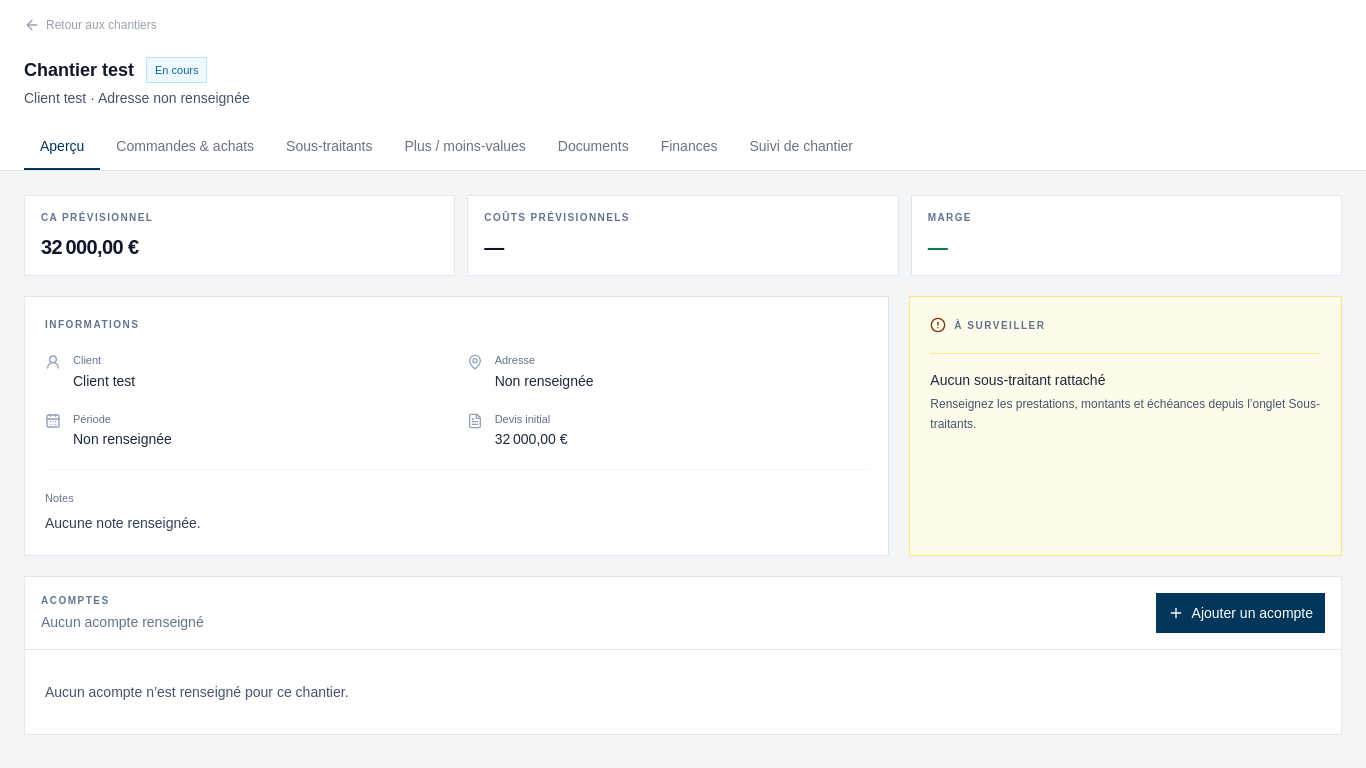
Scenario: chantier adjustment sheet › supports keyboard activation with Enter and keeps missing dates empty
Click the button "Plus / moins-values".
click(465, 147)  # box [388,124,542,170]
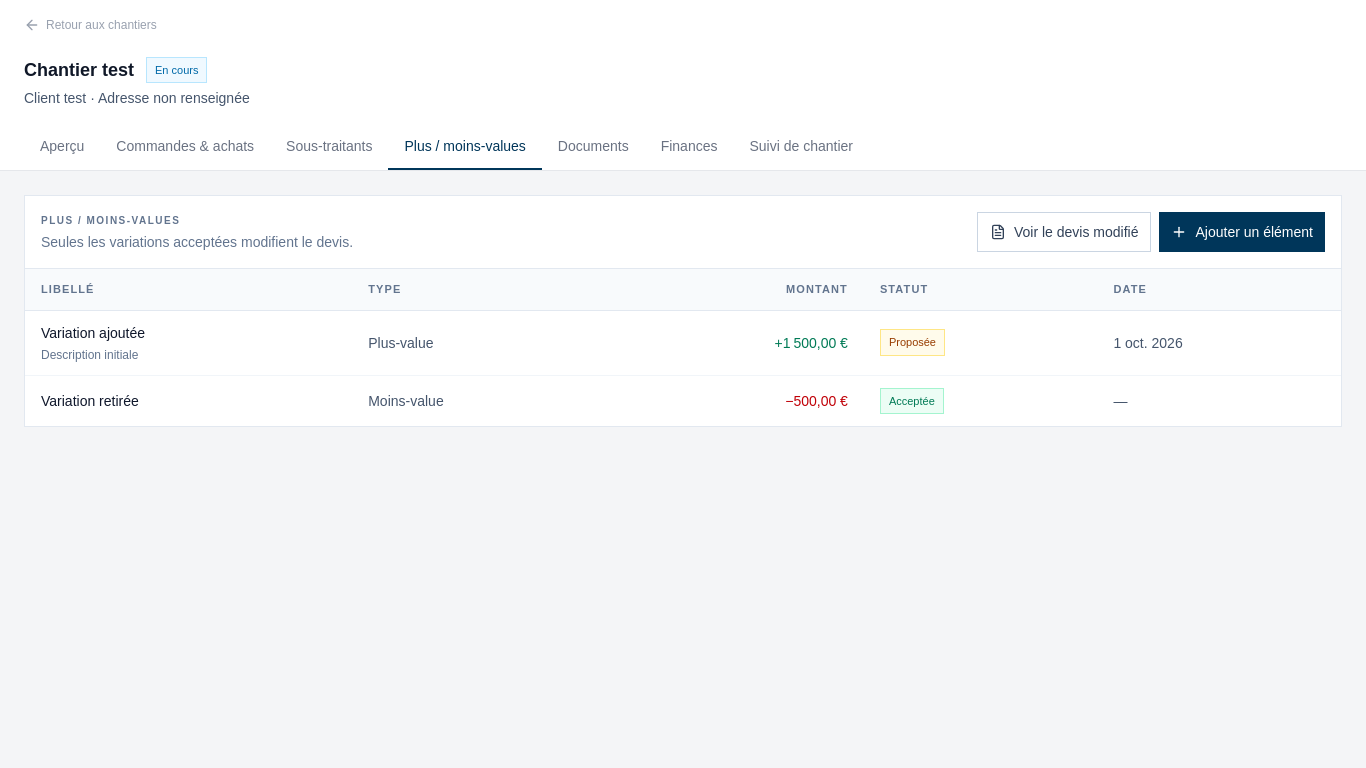
Press Enter in the row "Variation retirée Moins-value −500,00 € Acceptée —", box [25,375,1341,426]
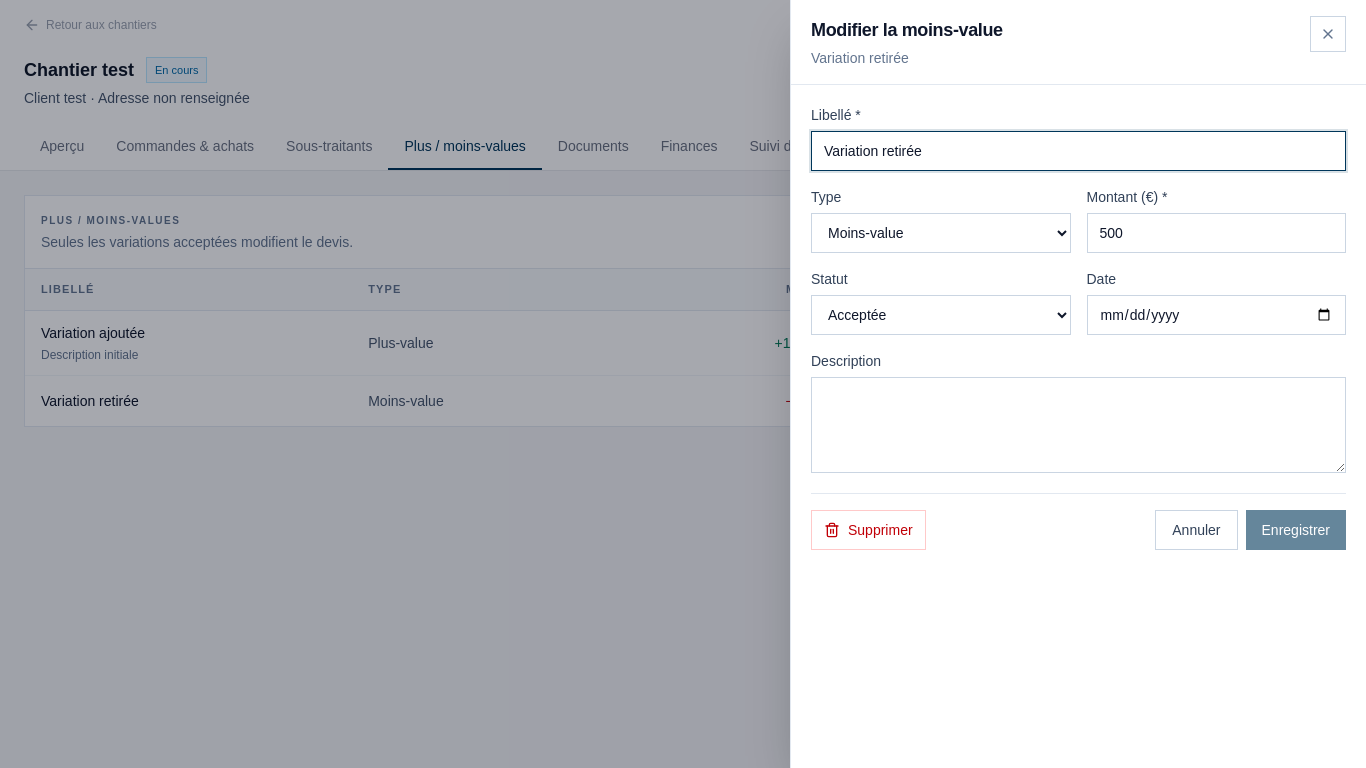
Result: the date field labelled "Date" is empty at [1086,295,1346,335]
Result: the dropdown labelled "Type" shows "Moins-value" at [811,213,1070,253]
